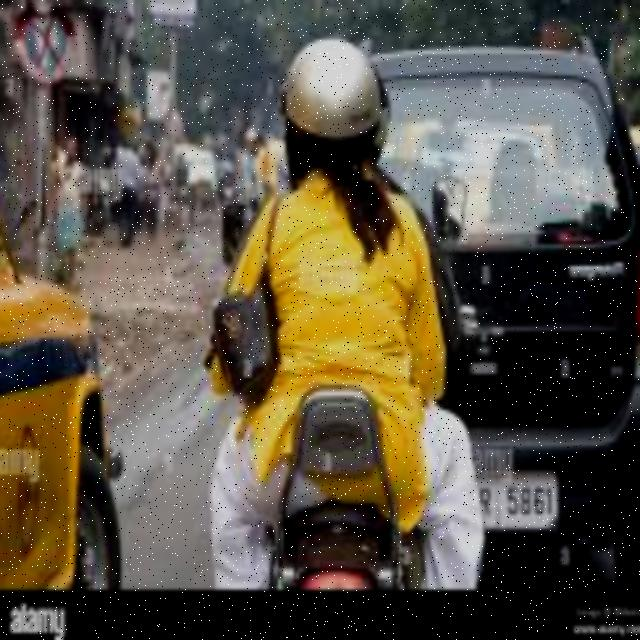not_triplets: (199, 26, 475, 592)
with-helmet: (281, 32, 383, 166)
